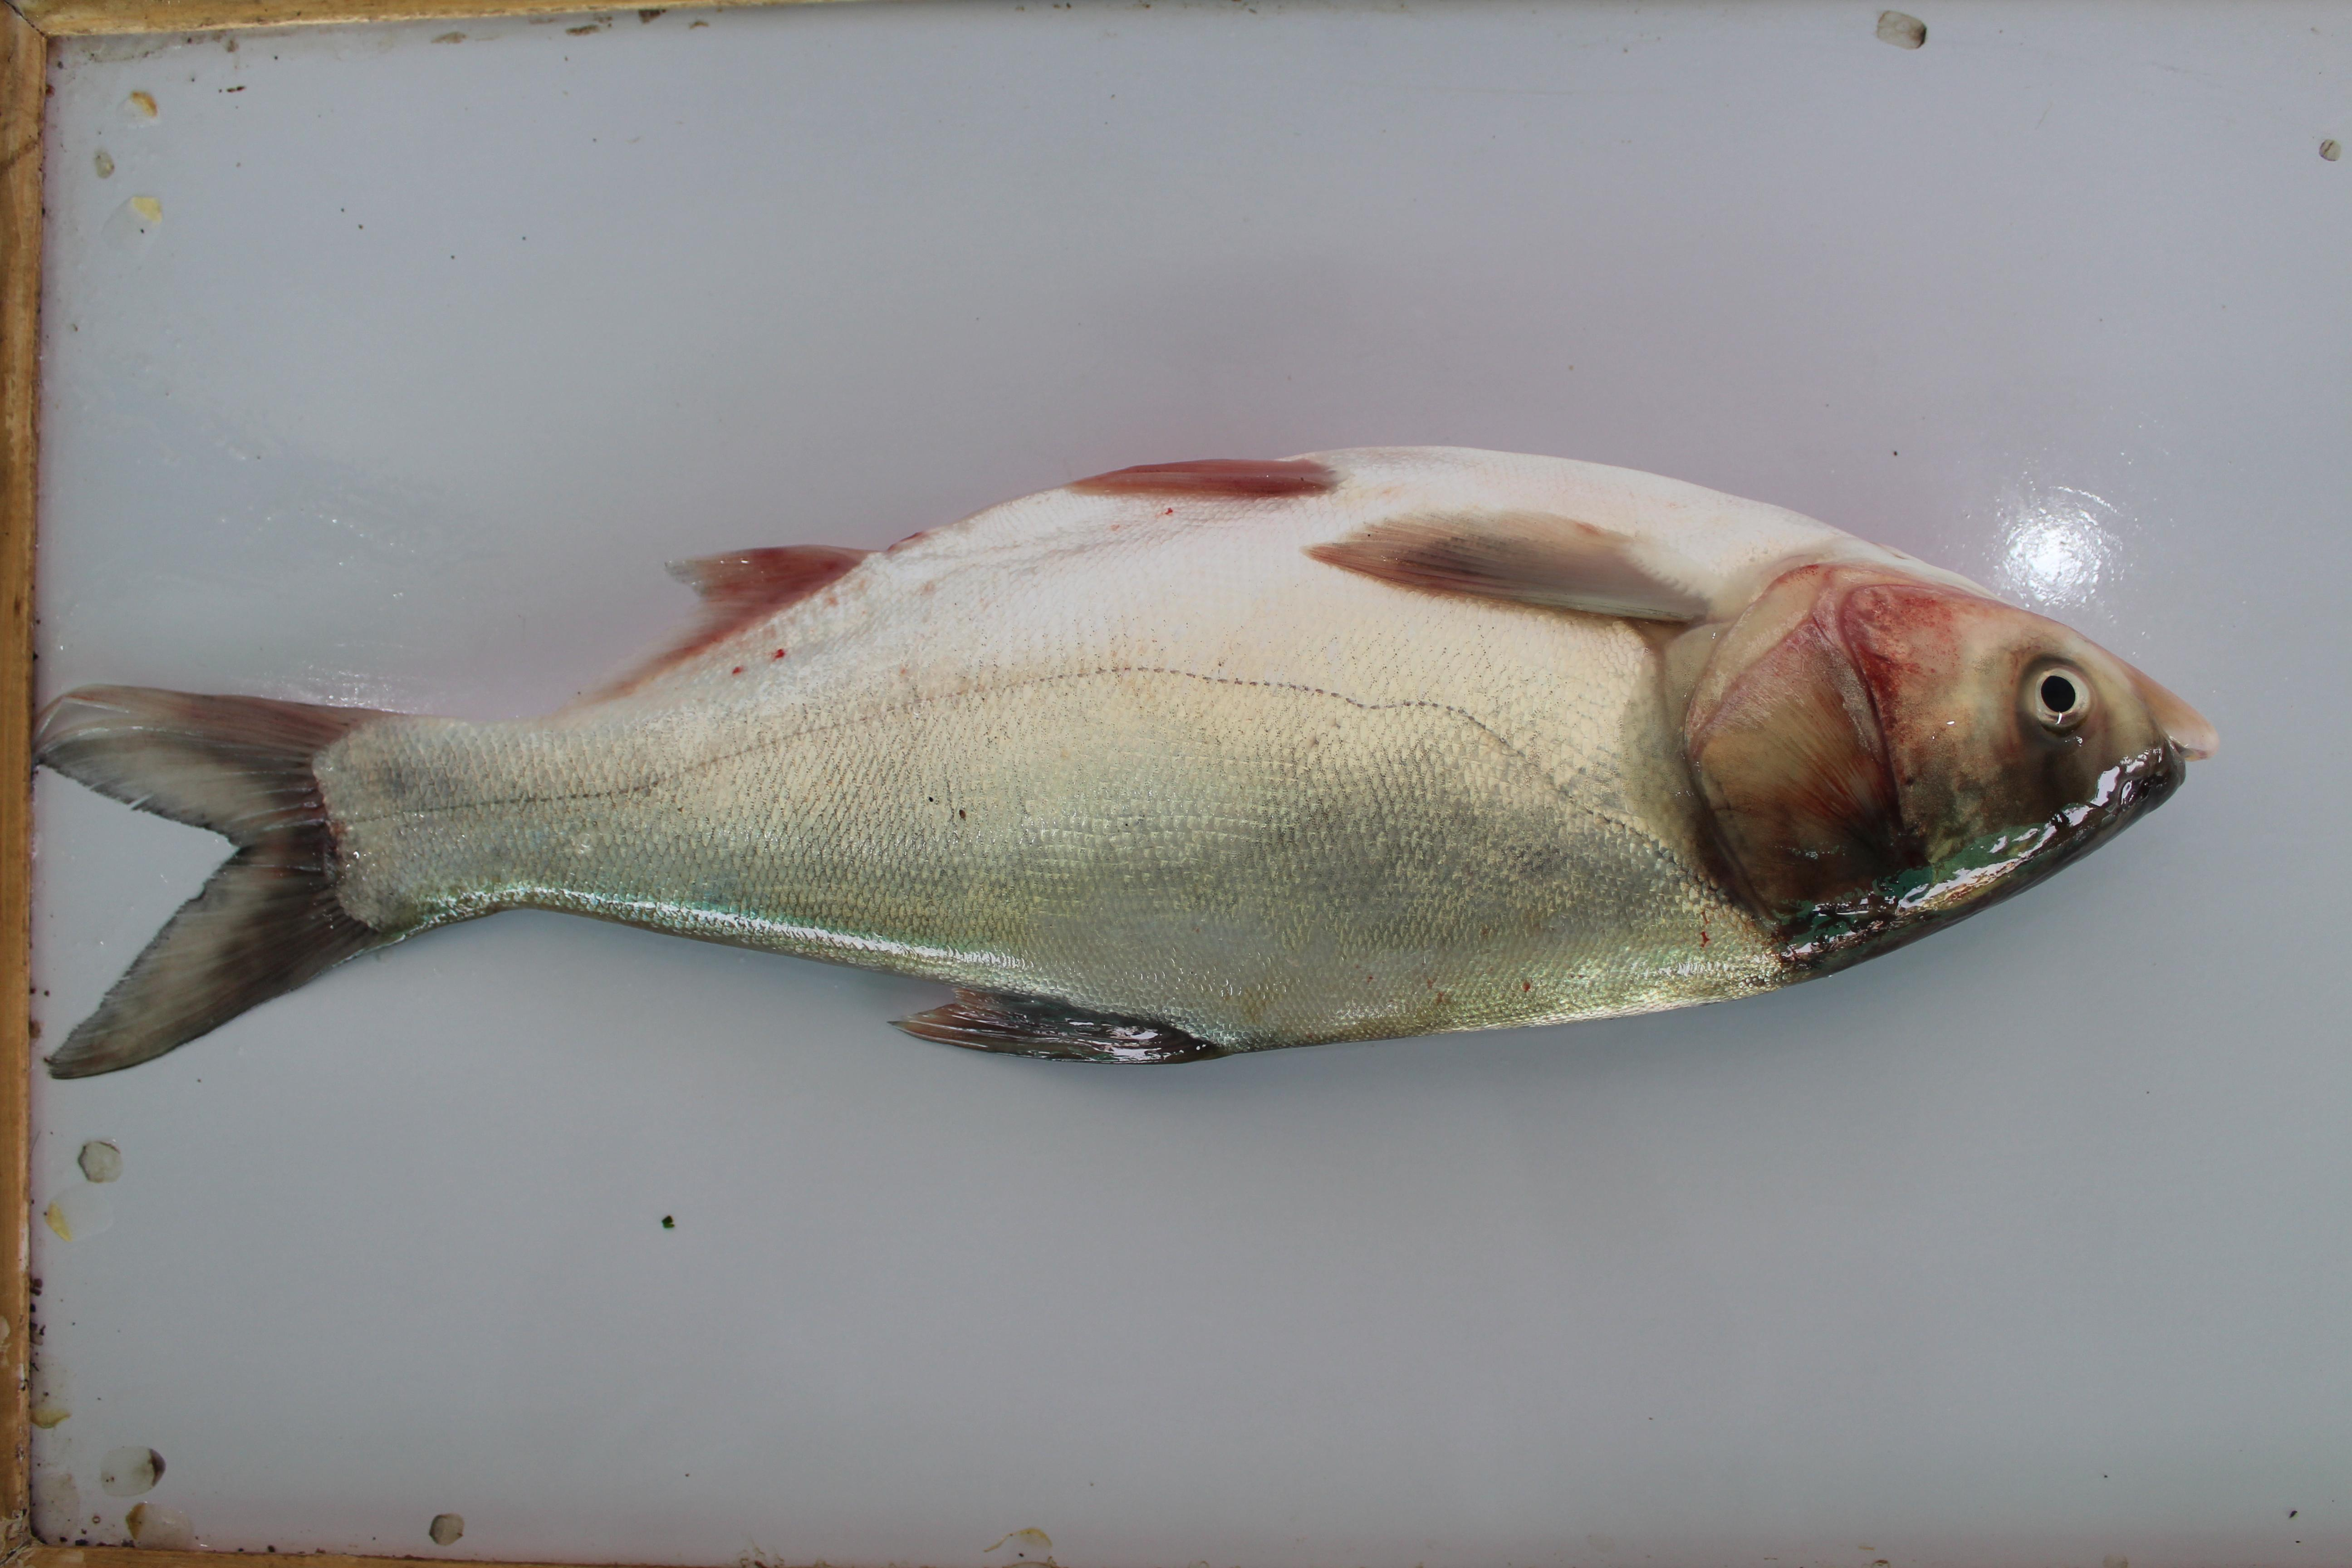Silver Carp: (28, 445, 2219, 1148)
